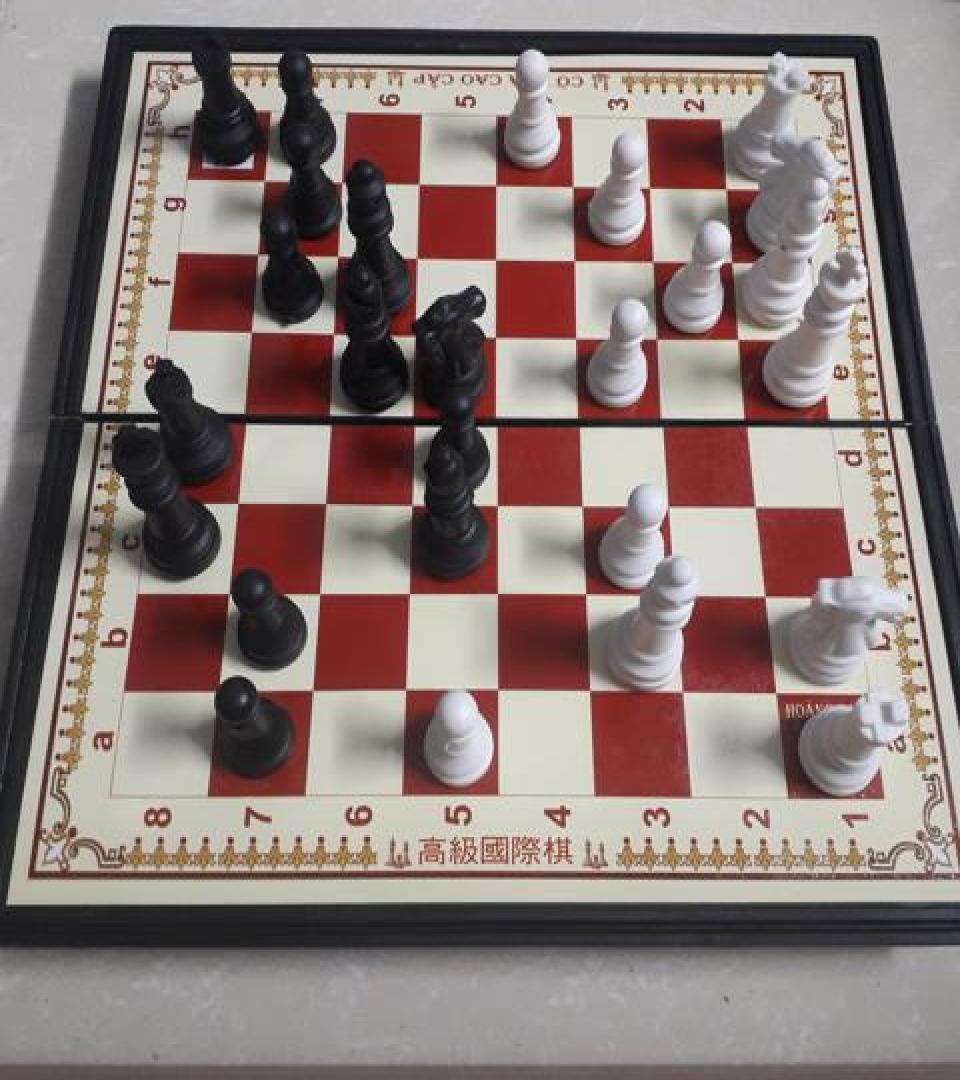xcorner: (297, 669, 329, 706), (393, 572, 425, 609), (203, 667, 235, 703), (390, 670, 422, 706), (483, 672, 515, 708), (577, 674, 609, 710), (670, 675, 702, 711), (763, 676, 795, 712), (212, 569, 244, 605), (303, 570, 335, 606), (483, 574, 515, 610), (573, 575, 605, 611), (663, 577, 695, 613), (753, 578, 785, 614), (221, 477, 253, 513), (308, 479, 340, 515), (396, 480, 428, 516), (483, 482, 515, 518), (570, 482, 602, 518), (657, 485, 689, 521), (744, 486, 776, 522), (229, 392, 261, 428), (314, 392, 346, 428), (398, 394, 430, 430), (483, 396, 515, 432), (567, 397, 599, 433), (651, 398, 683, 434), (736, 400, 768, 436), (237, 310, 269, 346), (318, 312, 350, 348), (400, 314, 432, 350), (482, 315, 514, 351), (564, 316, 596, 352), (646, 317, 678, 353), (728, 318, 760, 354), (244, 235, 276, 271), (323, 236, 355, 272), (403, 238, 435, 274), (482, 238, 514, 274), (562, 240, 594, 276), (641, 242, 673, 278), (720, 243, 752, 279), (250, 163, 282, 199), (328, 164, 360, 200), (482, 166, 514, 202), (559, 169, 591, 205), (636, 170, 668, 206), (713, 171, 745, 207), (405, 166, 437, 201)
